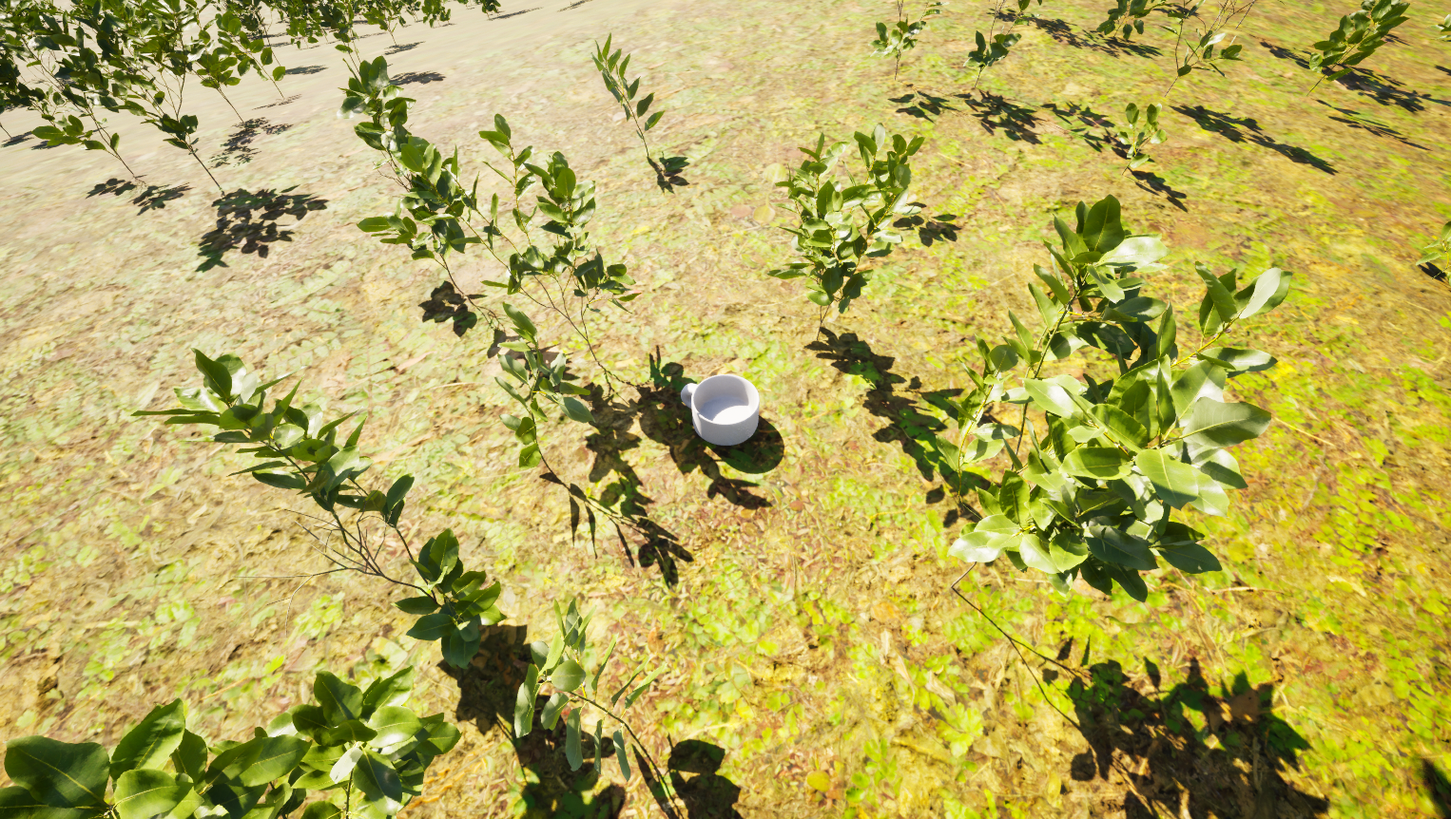Teacup: (676, 360, 772, 456)
